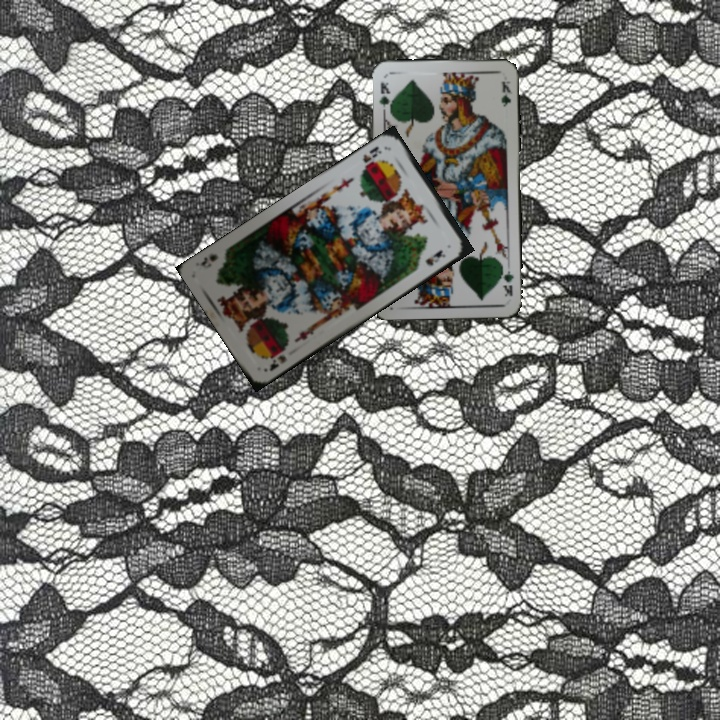GK: (375, 78, 394, 115), (498, 261, 516, 298)
SK: (356, 142, 384, 174), (265, 344, 289, 374)
